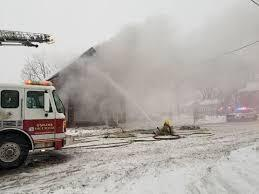smoke: (47, 0, 259, 126)
